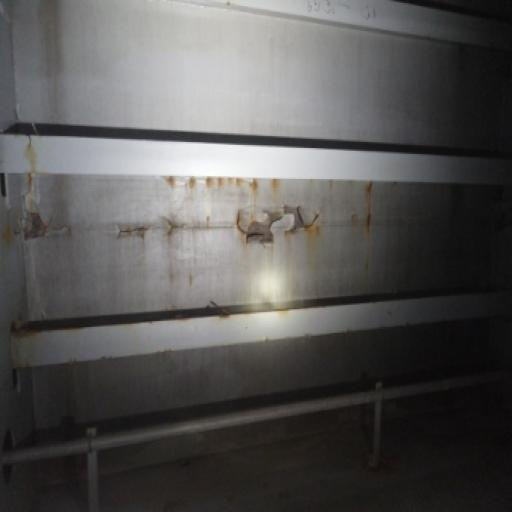Detect-rust-on-metal-surfaces: (231, 201, 327, 256), (4, 177, 53, 258), (162, 171, 292, 194), (361, 171, 377, 231)
